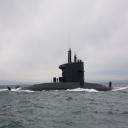submarine: (9, 49, 115, 92)
